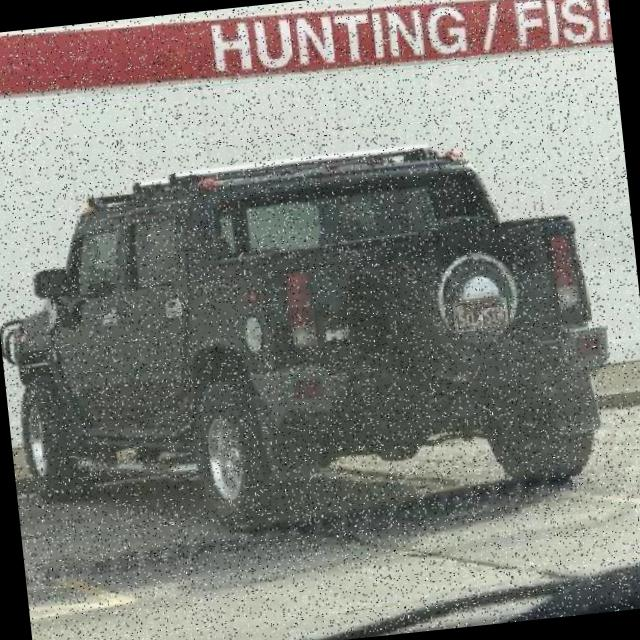LicensePlate: (450, 293, 509, 333)
